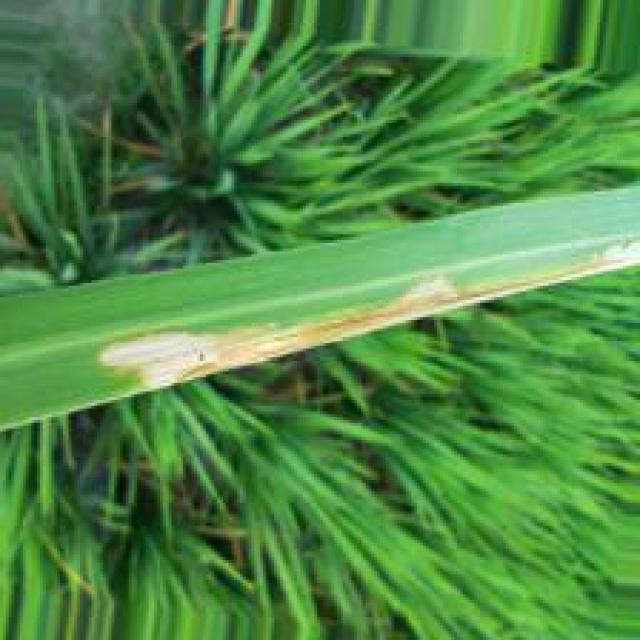Bacterial_Leaf_Blight: (81, 234, 640, 387)
